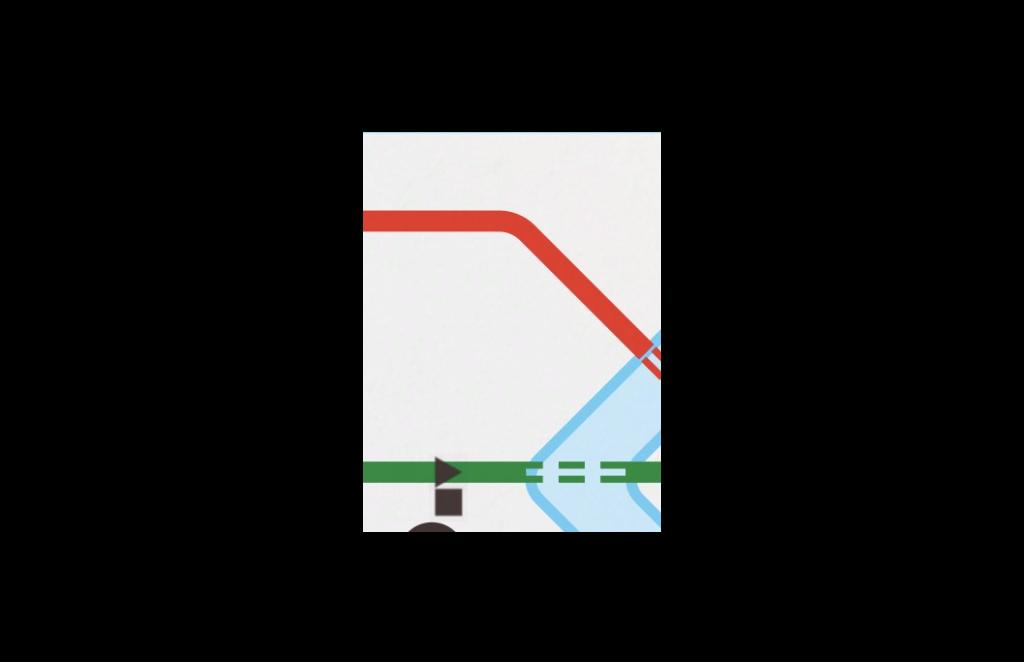connected_station: (390, 512, 476, 531)
tunnel: (527, 424, 653, 516), (623, 308, 661, 390)
